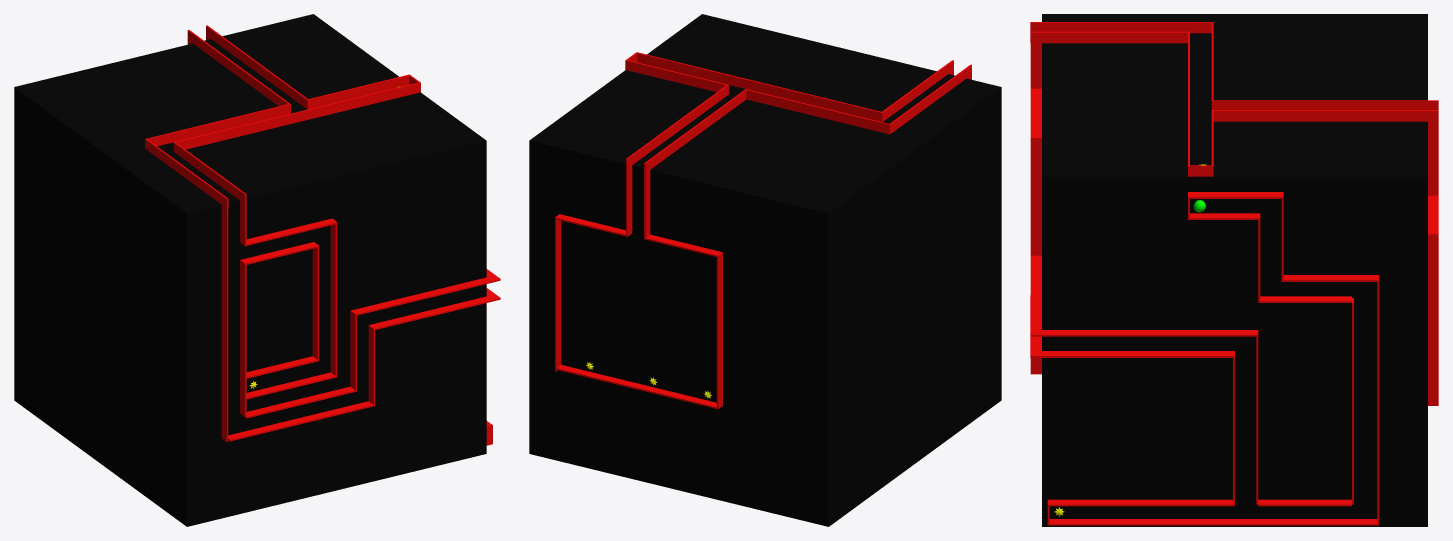
File: SpinPuzzle2.fbx
The picture shows the model from 3 angles, left to right: view 1: azimuth 30°, elevation 25°; view 2: azimuth 150°, elevation 25°; view 3: azimuth 270°, elevation 25°; orthographic projection. The views are drawn at different scales.
Visible parts, largest first — view 1: SpiinPuzzle2; view 2: SpiinPuzzle2; view 3: SpiinPuzzle2.
Part boxes in pixels (left/top/right/bottom): SpiinPuzzle2: left=14, top=14, right=500, bottom=526; SpiinPuzzle2: left=529, top=14, right=1001, bottom=526; SpiinPuzzle2: left=1030, top=14, right=1438, bottom=526.
Bounding box in the file's own units: 34.02 × 34.04 × 34.92.
